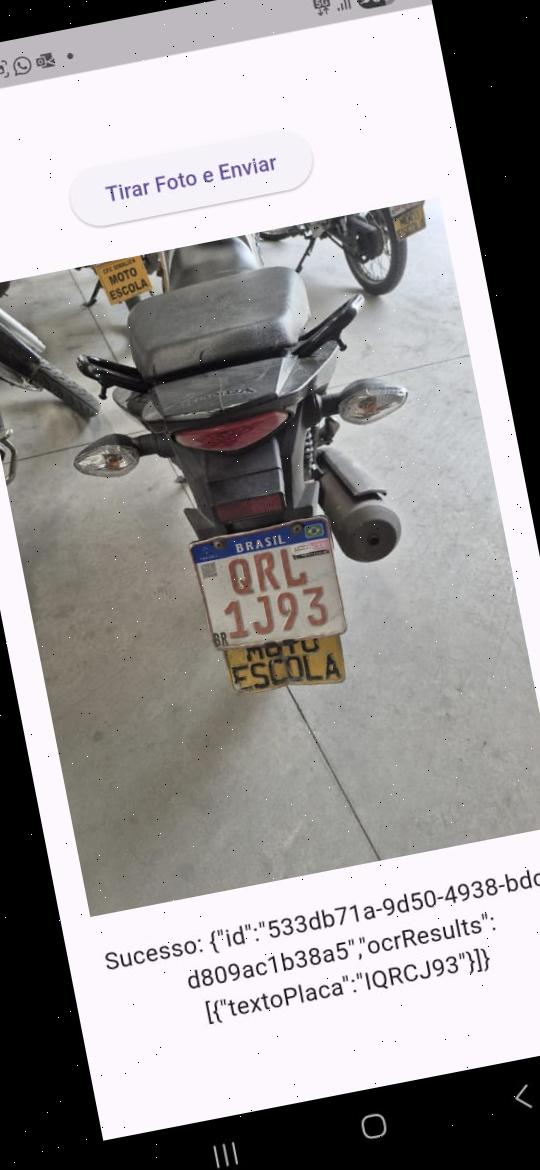placa_mercosul: (192, 515, 346, 651)
